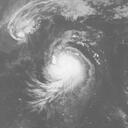cyclone: (35, 47, 95, 96)
